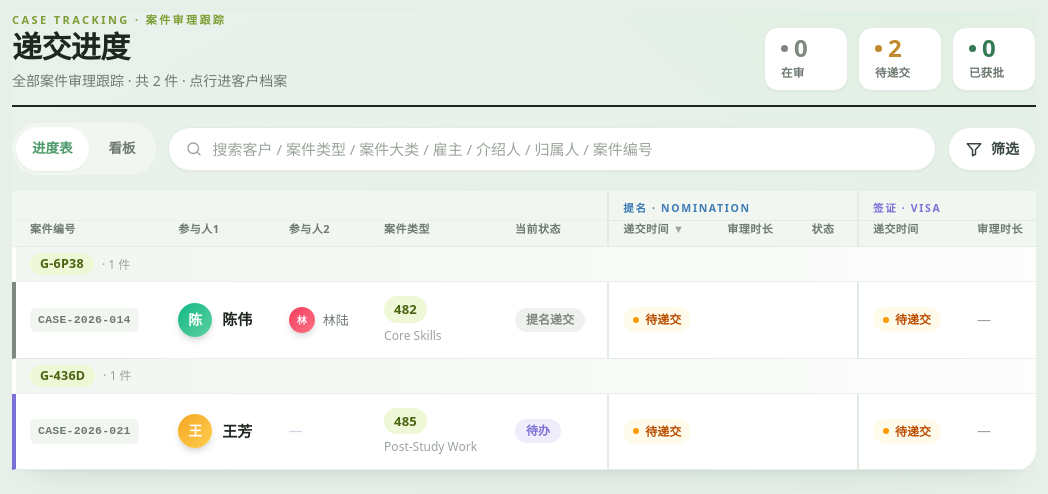
Test: CasesPage — 进度表 / 看板 段控 › 卡片「查看进度 →」→ 切回进度表并定位该案件（搜索定位到其案件号）
The image size is (1048, 494).
Step 1. Click the button "看板" → (122, 148), box [92,126,152,170]
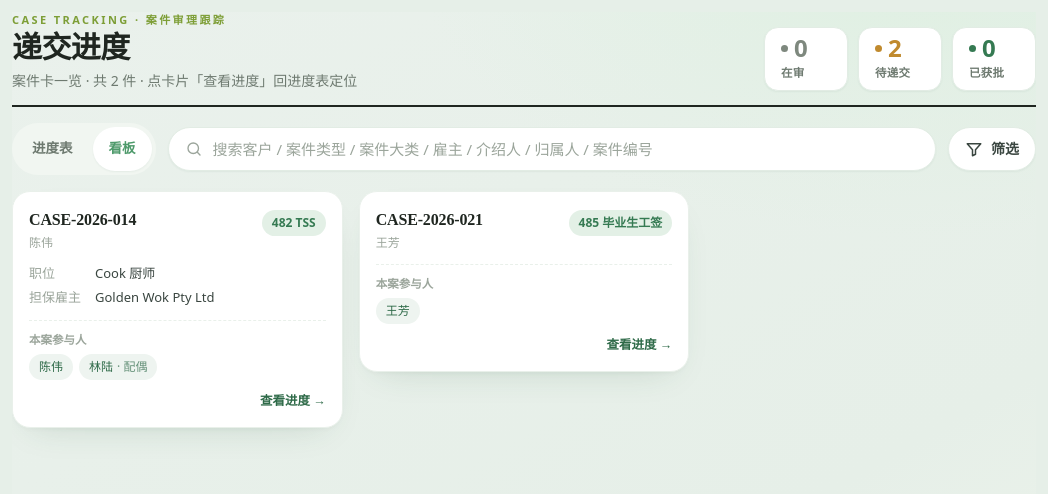
Step 2. Click the button "查看进度 →" below "林陆" → (293, 401), box [260,392,326,411]
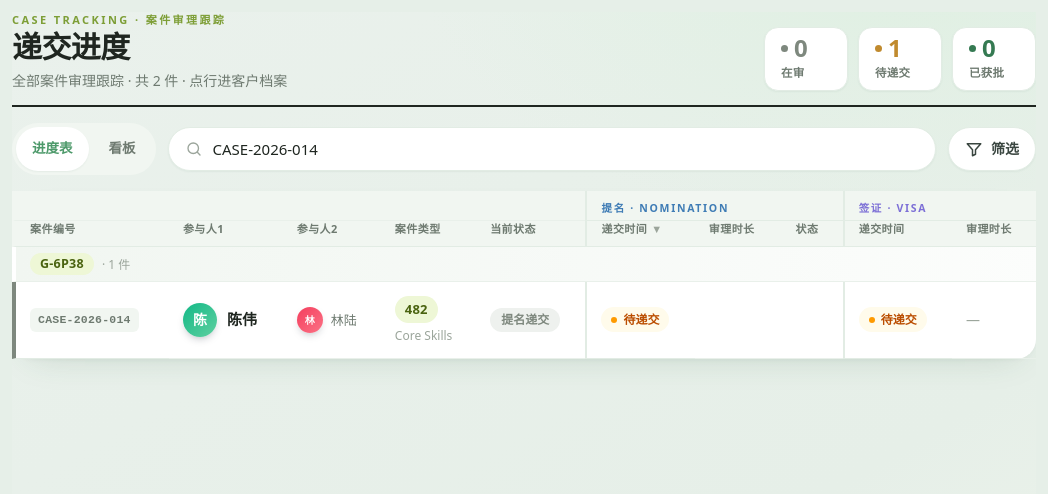
Expected: the link "CASE-2026-014" is shown, [30,308,139,332]
Result: the search field with placeholder "搜索客户 / 案件类型 / 案件大类 / 雇主 / 介绍人 / 归属人 / 案件编号" holds "CASE-2026-014" at [212,128,919,170]
Result: the heading "CASE-2026-021" is gone
